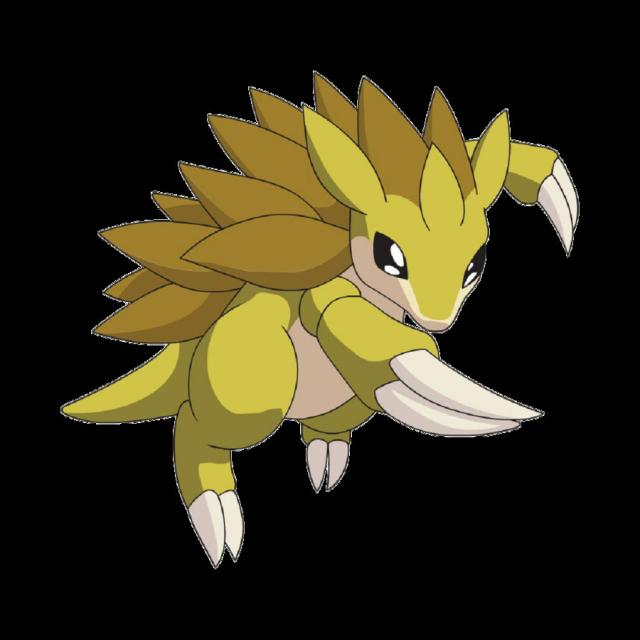Sandslash: (88, 74, 549, 460)
